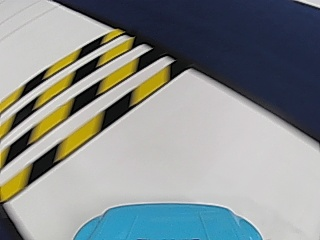bump: (3, 42, 126, 146)
